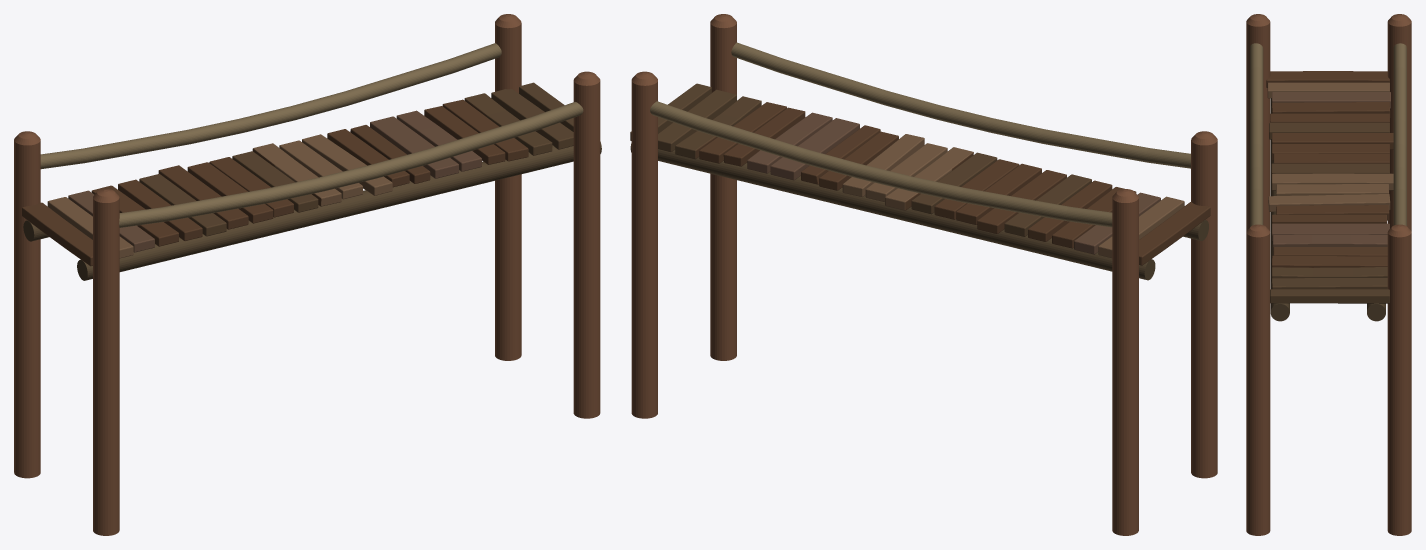
The model's file is Bridge.fbx.
3 renders of one model, left to right at view 1: azimuth 30°, elevation 25°; view 2: azimuth 150°, elevation 25°; view 3: azimuth 270°, elevation 25°, orthographic. The views are drawn at different scales.
Visible parts, largest first — view 1: Cylinder.001, Planks, Cylinder.002, Cylinder; view 2: Cylinder.001, Planks, Cylinder.002, Cylinder; view 3: Planks, Cylinder.001, Cylinder.002, Cylinder.
Part boxes in pixels (x1,y1,x2,y2): Cylinder.001: [14, 14, 600, 535]; Planks: [22, 82, 573, 266]; Cylinder.002: [40, 43, 583, 227]; Cylinder: [23, 141, 601, 280]; Cylinder.001: [631, 14, 1217, 535]; Planks: [630, 83, 1210, 265]; Cylinder.002: [650, 42, 1190, 227]; Cylinder: [630, 143, 1208, 280]; Planks: [1266, 71, 1393, 303]; Cylinder.001: [1246, 14, 1411, 535]; Cylinder.002: [1250, 43, 1406, 226]; Cylinder: [1270, 98, 1385, 321].
Size of the model in its own units: 770 by 485 by 239.
